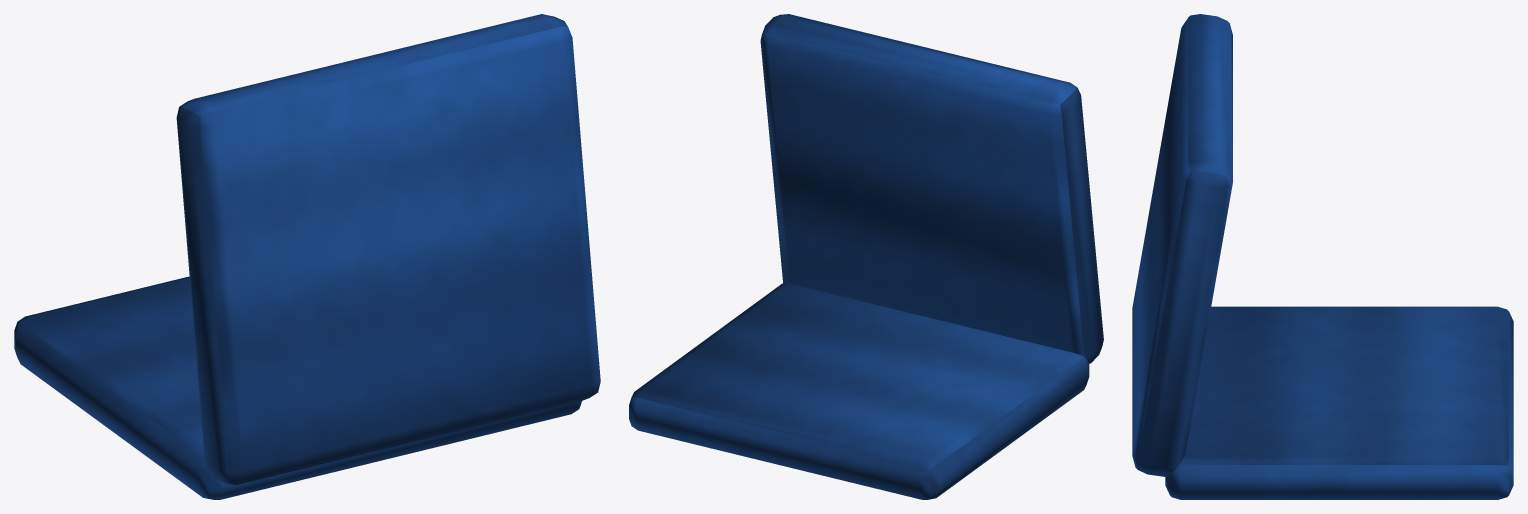
The model's file is seat.glb.
3 renders of one model, left to right at view 1: azimuth 30°, elevation 25°; view 2: azimuth 150°, elevation 25°; view 3: azimuth 270°, elevation 25°, orthographic. The views are drawn at different scales.
Parts seen in each view (by area): view 1: Seat; view 2: Seat; view 3: Seat.
Boxes of the visible parts, x1,y1,x2,y2 form: Seat: (14, 14, 600, 499); Seat: (629, 14, 1103, 499); Seat: (1132, 14, 1513, 499).
Bounding box in the file's own units: 0.44 × 0.4266 × 0.4378.
1 material, 1 textured.
